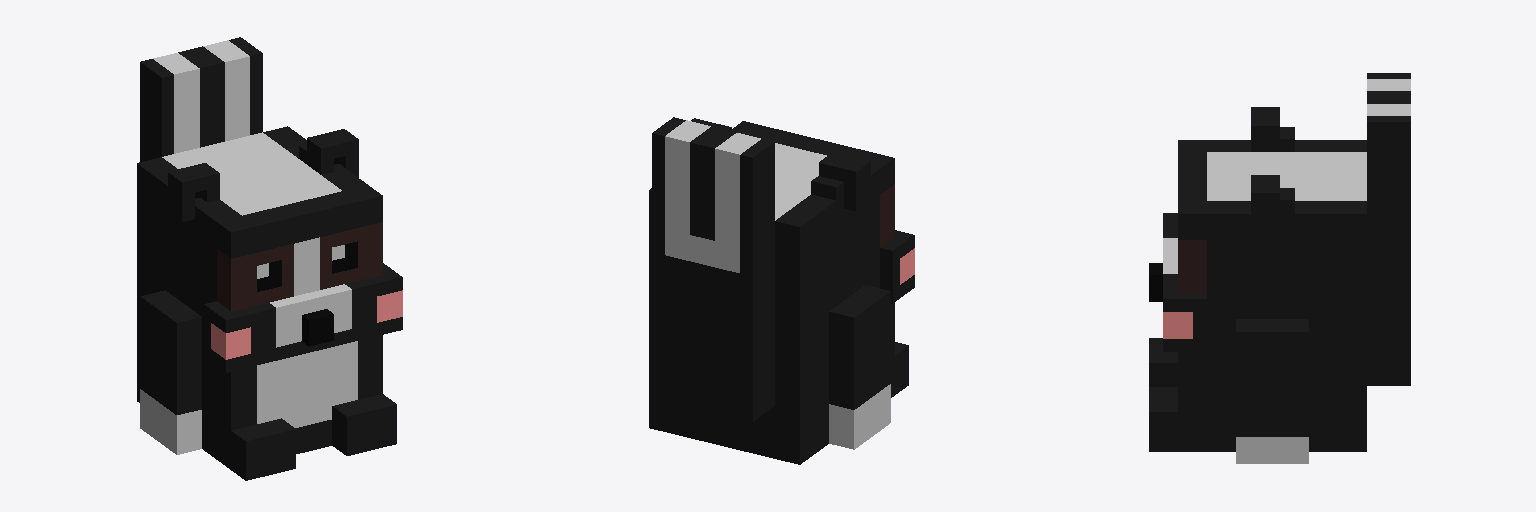
3 views of the same model, side by side, from view 1: azimuth 30°, elevation 25°; view 2: azimuth 150°, elevation 25°; view 3: azimuth 270°, elevation 25° (orthographic).
Parts seen in each view (by area): view 1: object 1; view 2: object 1; view 3: object 1.
Boxes of the visible parts, <box> form: object 1: <box>137,37,402,480</box>; object 1: <box>649,117,914,464</box>; object 1: <box>1149,73,1410,463</box>.
Bounding box in the file's own units: 1.6 × 2.4 × 1.8.
1 materials, 1 textured.